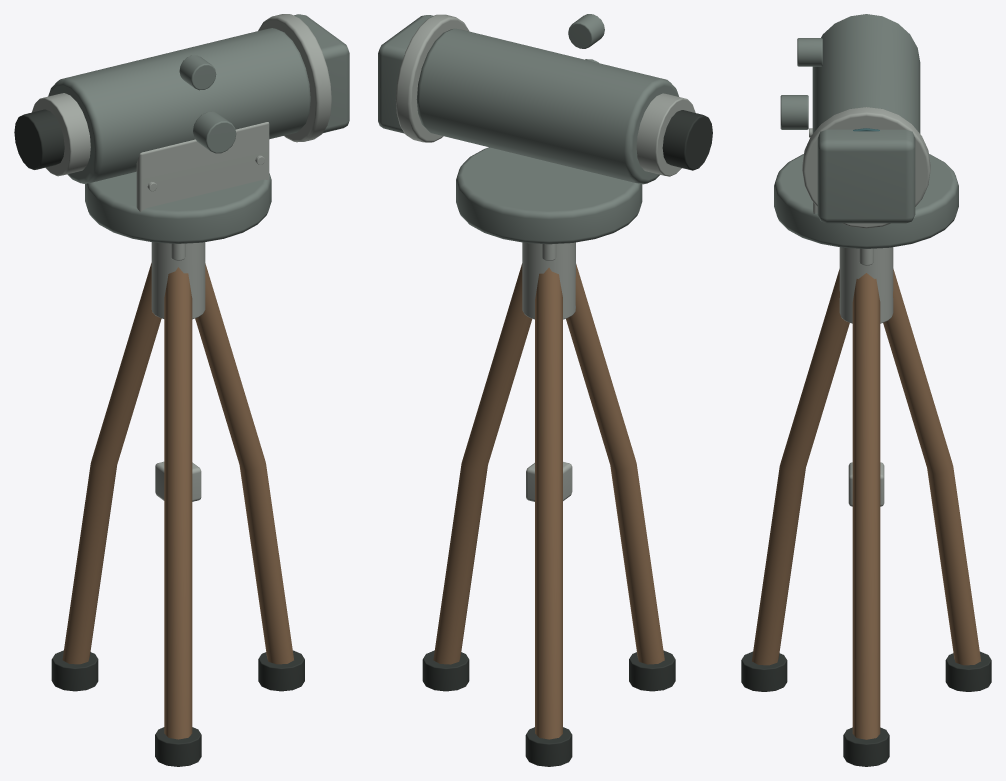
Rendered from E27_SurveyTransit.fbx.
The picture shows the model from 3 angles, left to right: view 1: azimuth 30°, elevation 25°; view 2: azimuth 150°, elevation 25°; view 3: azimuth 270°, elevation 25°; orthographic projection.
Parts seen in each view (by area): view 1: E27_SurveyTransit_PaintedMetal, E27_SurveyTransit_Wood, E27_SurveyTransit_Steel, E27_SurveyTransit_Rubber; view 2: E27_SurveyTransit_PaintedMetal, E27_SurveyTransit_Wood, E27_SurveyTransit_Steel, E27_SurveyTransit_Rubber; view 3: E27_SurveyTransit_Wood, E27_SurveyTransit_PaintedMetal, E27_SurveyTransit_Steel, E27_SurveyTransit_Rubber.
Part boxes in pixels (<box>): E27_SurveyTransit_PaintedMetal: <box>48,14,349,243</box>; E27_SurveyTransit_Wood: <box>62,263,293,739</box>; E27_SurveyTransit_Steel: <box>32,14,331,501</box>; E27_SurveyTransit_Rubber: <box>14,109,304,766</box>; E27_SurveyTransit_PaintedMetal: <box>378,14,678,244</box>; E27_SurveyTransit_Wood: <box>433,263,664,739</box>; E27_SurveyTransit_Steel: <box>395,14,695,501</box>; E27_SurveyTransit_Rubber: <box>422,110,712,766</box>; E27_SurveyTransit_Wood: <box>752,269,980,739</box>; E27_SurveyTransit_PaintedMetal: <box>774,14,958,248</box>; E27_SurveyTransit_Steel: <box>802,107,930,506</box>; E27_SurveyTransit_Rubber: <box>741,651,991,766</box>.
Size of the model in its own units: 67 by 143 by 48.84.
